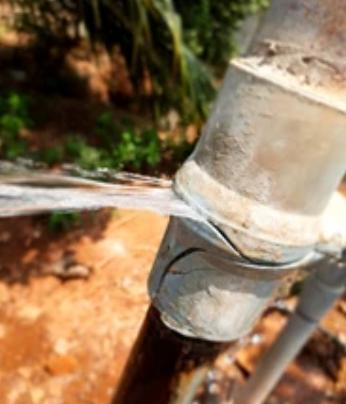pipe burst: (0, 159, 210, 221)
